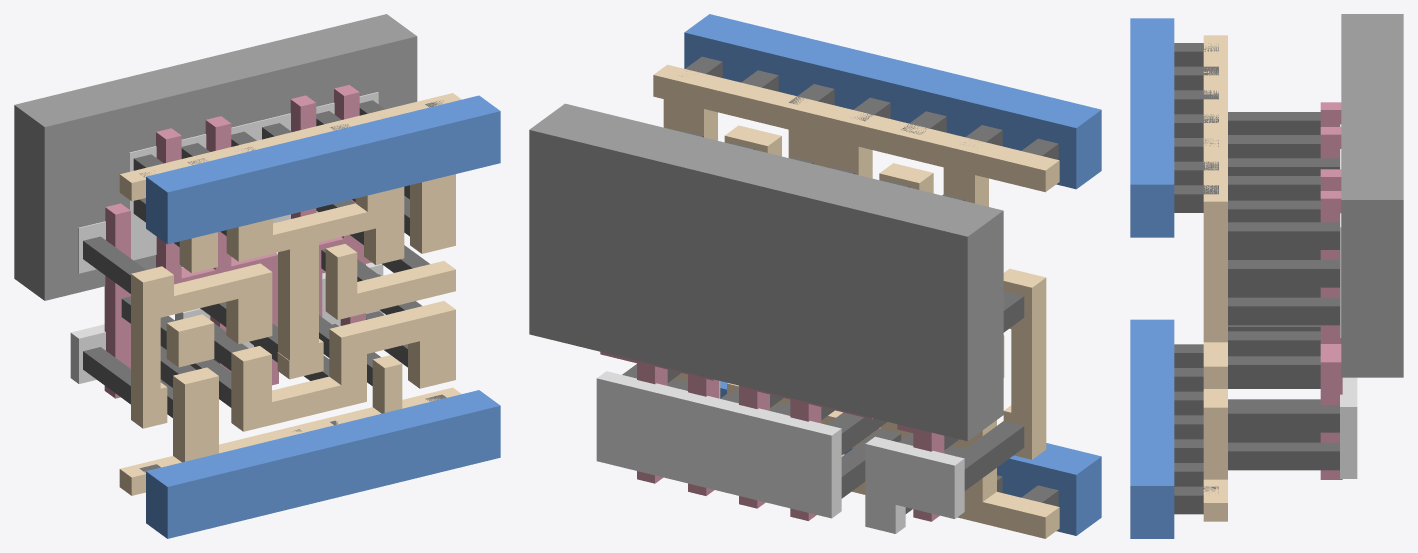
The model's file is sky130_fd_sc_hd__nand2b_2.gds.gltf.
The picture shows the model from 3 angles, left to right: view 1: azimuth 30°, elevation 25°; view 2: azimuth 150°, elevation 25°; view 3: azimuth 270°, elevation 25°; orthographic projection. The views are drawn at different scales.
Visible parts, largest first — view 1: sky130_fd_sc_hd__nand2b_2_li1, sky130_fd_sc_hd__nand2b_2_met1, sky130_fd_sc_hd__nand2b_2_nwell, sky130_fd_sc_hd__nand2b_2_licon, sky130_fd_sc_hd__nand2b_2_poly, sky130_fd_sc_hd__nand2b_2_diff; view 2: sky130_fd_sc_hd__nand2b_2_nwell, sky130_fd_sc_hd__nand2b_2_li1, sky130_fd_sc_hd__nand2b_2_diff, sky130_fd_sc_hd__nand2b_2_met1, sky130_fd_sc_hd__nand2b_2_licon, sky130_fd_sc_hd__nand2b_2_poly, sky130_fd_sc_hd__nand2b_2_mcon; view 3: sky130_fd_sc_hd__nand2b_2_licon, sky130_fd_sc_hd__nand2b_2_nwell, sky130_fd_sc_hd__nand2b_2_met1, sky130_fd_sc_hd__nand2b_2_li1, sky130_fd_sc_hd__nand2b_2_mcon, sky130_fd_sc_hd__nand2b_2_poly, sky130_fd_sc_hd__nand2b_2_diff.
Boxes of the visible parts, <box> form: sky130_fd_sc_hd__nand2b_2_li1: <box>119,93,461,495</box>; sky130_fd_sc_hd__nand2b_2_met1: <box>146,95,500,538</box>; sky130_fd_sc_hd__nand2b_2_nwell: <box>14,14,417,300</box>; sky130_fd_sc_hd__nand2b_2_licon: <box>83,100,429,417</box>; sky130_fd_sc_hd__nand2b_2_poly: <box>104,85,371,398</box>; sky130_fd_sc_hd__nand2b_2_diff: <box>70,92,383,383</box>; sky130_fd_sc_hd__nand2b_2_nwell: <box>529,103,1003,441</box>; sky130_fd_sc_hd__nand2b_2_li1: <box>653,64,1059,538</box>; sky130_fd_sc_hd__nand2b_2_diff: <box>596,371,964,533</box>; sky130_fd_sc_hd__nand2b_2_met1: <box>684,14,1101,535</box>; sky130_fd_sc_hd__nand2b_2_licon: <box>622,130,1024,513</box>; sky130_fd_sc_hd__nand2b_2_poly: <box>600,352,944,521</box>; sky130_fd_sc_hd__nand2b_2_mcon: <box>681,56,1058,506</box>; sky130_fd_sc_hd__nand2b_2_licon: <box>1228,112,1339,470</box>; sky130_fd_sc_hd__nand2b_2_nwell: <box>1341,14,1403,377</box>; sky130_fd_sc_hd__nand2b_2_met1: <box>1130,18,1174,538</box>; sky130_fd_sc_hd__nand2b_2_li1: <box>1203,35,1227,521</box>; sky130_fd_sc_hd__nand2b_2_mcon: <box>1174,43,1218,514</box>; sky130_fd_sc_hd__nand2b_2_poly: <box>1320,102,1342,479</box>; sky130_fd_sc_hd__nand2b_2_diff: <box>1340,124,1357,478</box>.
Size of the model in its own units: 3.6 by 3.2 by 2.24.
